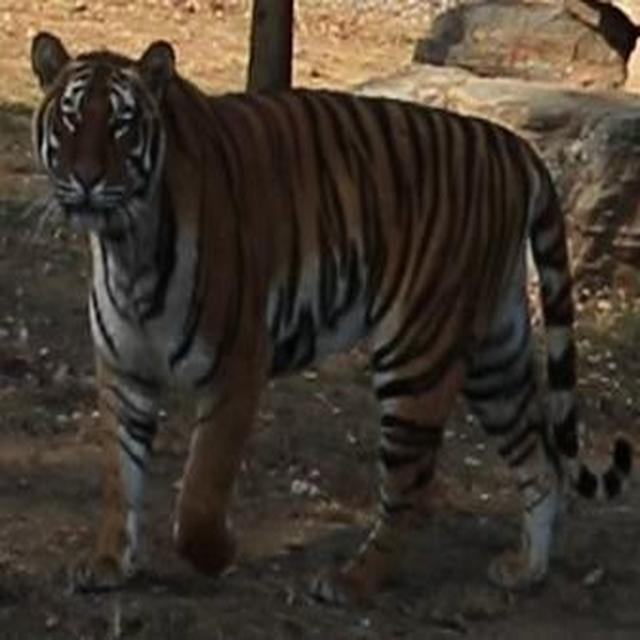tiger: (25, 29, 637, 602)
